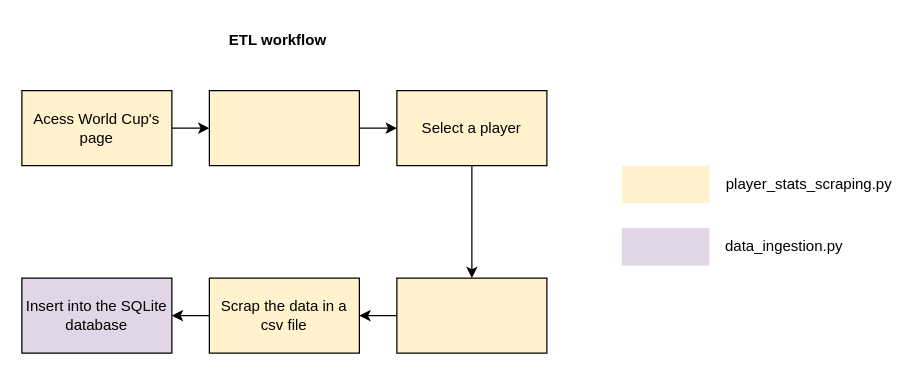
This 914x375 diagram has some shape labels left out. Each missing label, with the centre of its shape:
Select a team to be analyzed: point (283, 127)
Take n seasons: point (471, 315)
